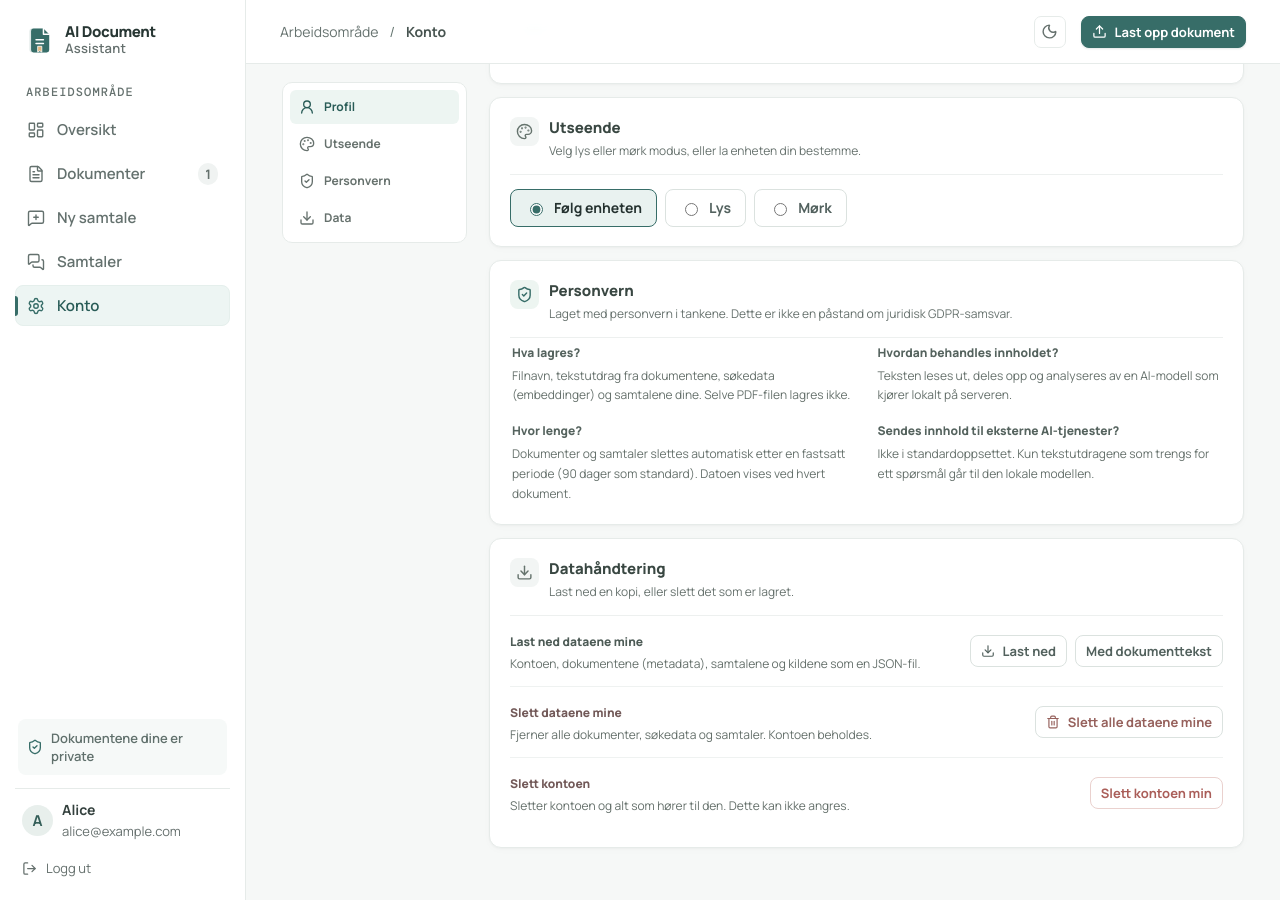
Test case: account and privacy › logs out after the account was deleted
(page scrolled)
Click the button "Slett kontoen min" at {"x": 1156, "y": 793}, box [1090,777,1223,809]
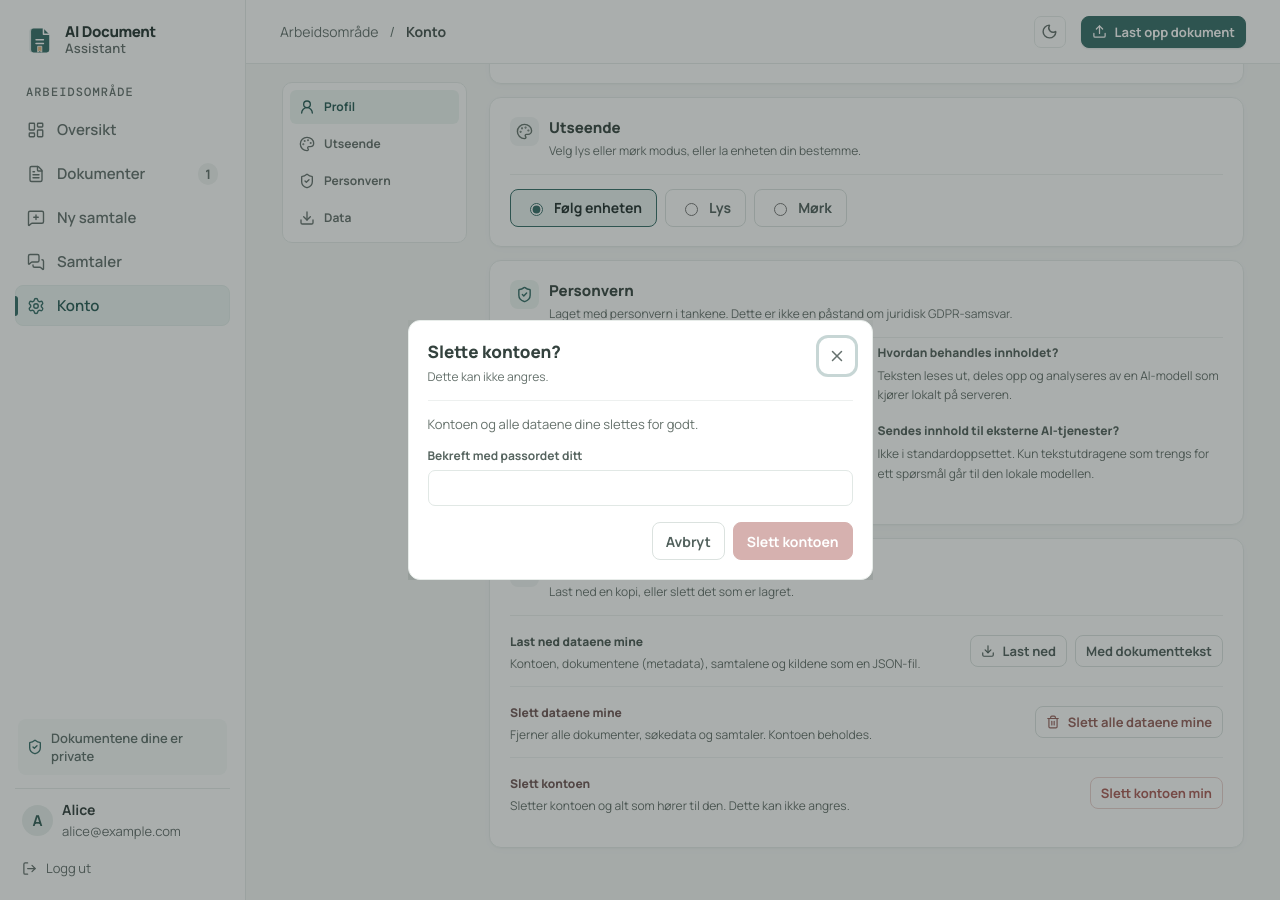
Type "correct-horse-1" into the password field labelled "Bekreft med passordet ditt" at {"x": 640, "y": 488}, box [428,470,852,506]
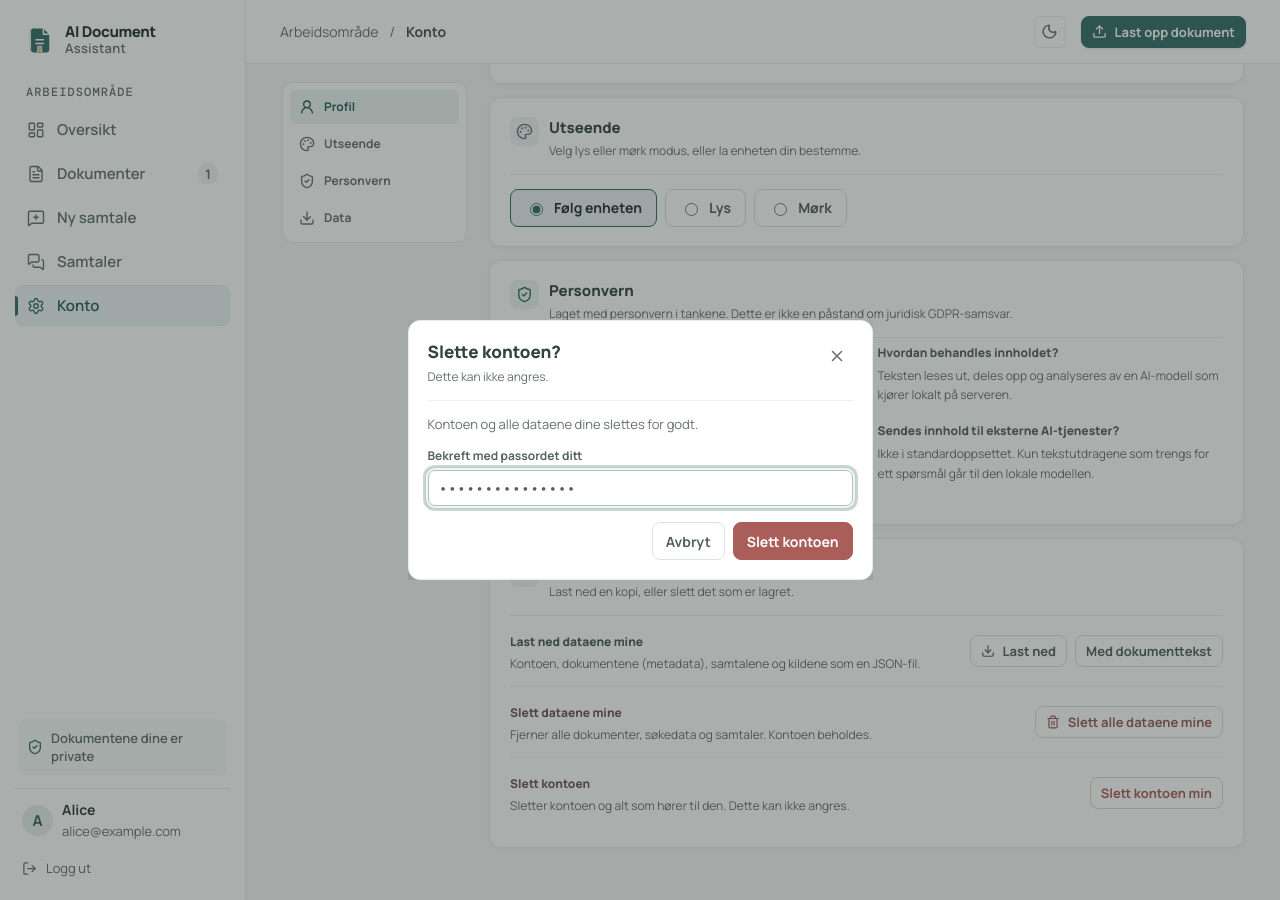
Click the button "Slett kontoen" at {"x": 793, "y": 541}, box [733,522,852,560]
(page scrolled)
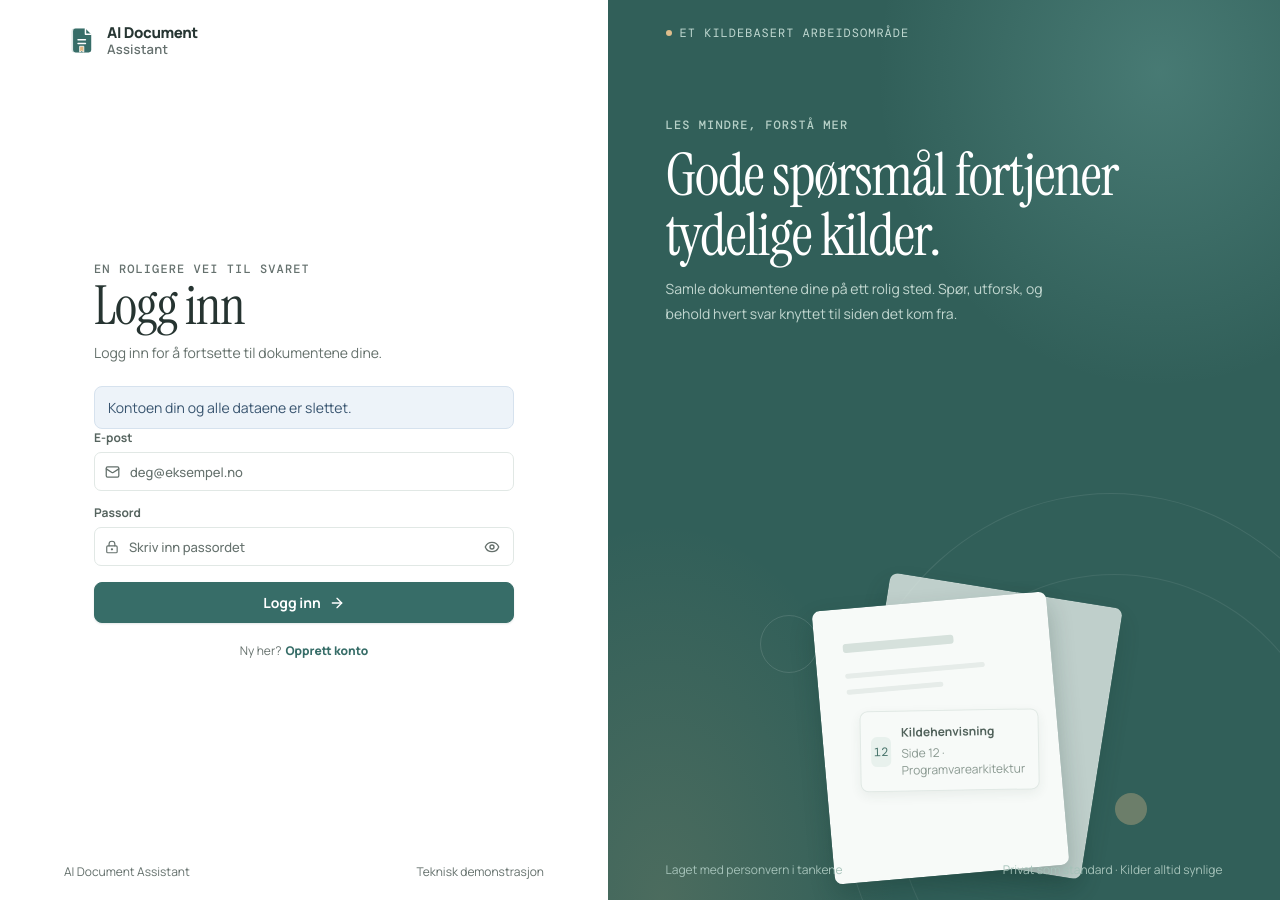
expect the heading "Logg inn" is shown: met, box [94,271,244,341]
expect the text "Kontoen din og alle dataene er slettet." is shown: met, box [94,386,514,429]
